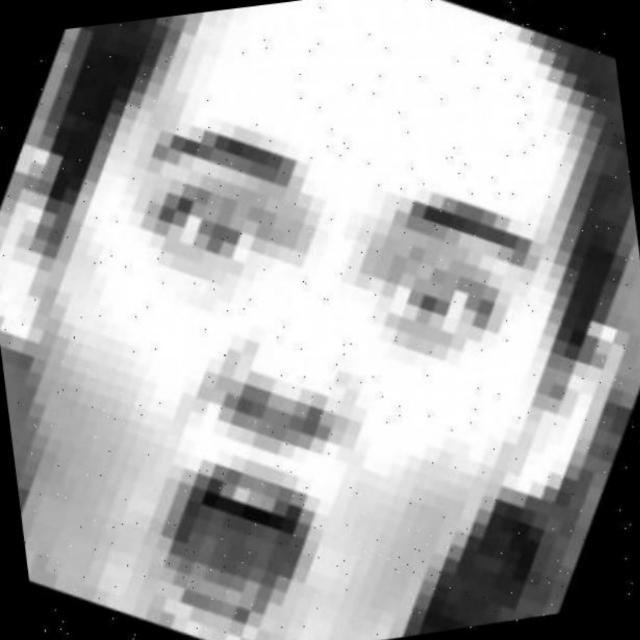Surprised: (24, 86, 640, 640)
